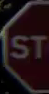Stop: (0, 11, 44, 71)
